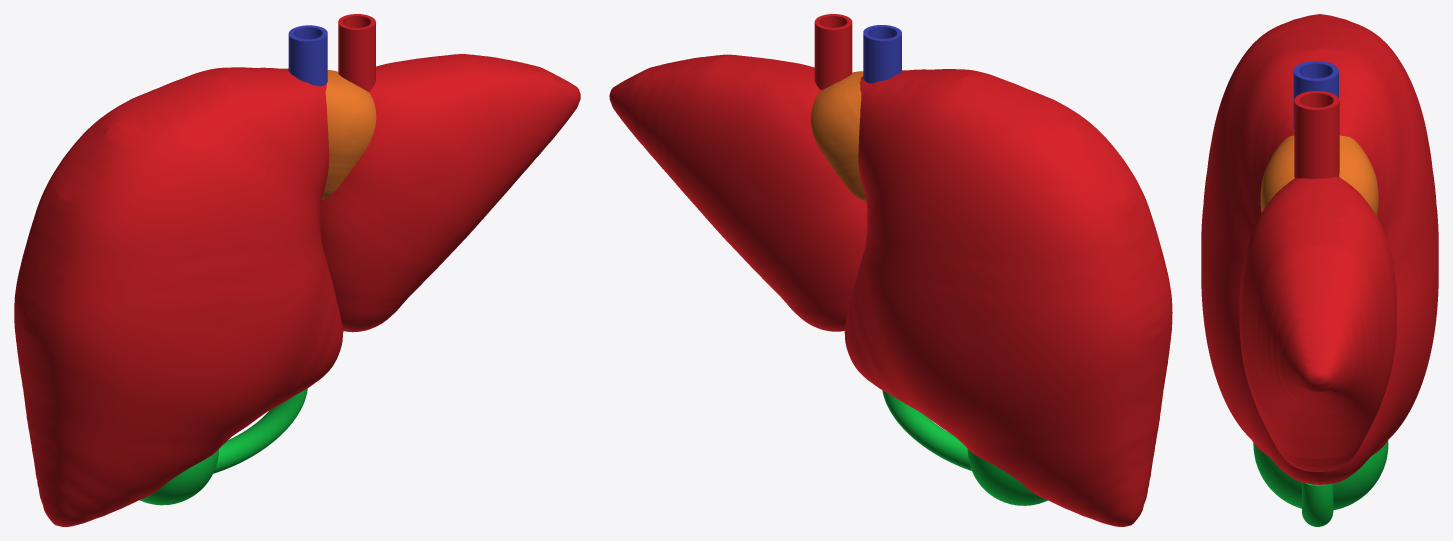
Rendered from liver_human_anatomy.glb.
3 views of the same model, side by side, from view 1: azimuth 30°, elevation 25°; view 2: azimuth 150°, elevation 25°; view 3: azimuth 270°, elevation 25° (orthographic). The views are drawn at different scales.
Parts seen in each view (by area): view 1: node_id15_8, node_id24_13, node_id9_5, node_id21_11, node_id12_6, node_id18_9, node_id27_15; view 2: node_id15_8, node_id24_13, node_id9_5, node_id21_11, node_id12_6, node_id18_9, node_id27_15; view 3: node_id15_8, node_id24_13, node_id21_11, node_id9_5, node_id27_15, node_id18_9, node_id12_6.
Boxes of the visible parts, <box> form: node_id15_8: <box>14,67,343,526</box>; node_id24_13: <box>320,54,580,332</box>; node_id9_5: <box>321,70,376,199</box>; node_id21_11: <box>338,14,375,91</box>; node_id12_6: <box>213,388,307,473</box>; node_id18_9: <box>288,25,327,86</box>; node_id27_15: <box>140,449,218,505</box>; node_id15_8: <box>844,69,1172,526</box>; node_id24_13: <box>609,54,867,331</box>; node_id9_5: <box>811,71,866,201</box>; node_id21_11: <box>814,14,852,90</box>; node_id12_6: <box>882,390,971,470</box>; node_id18_9: <box>863,25,901,83</box>; node_id27_15: <box>967,449,1047,505</box>; node_id15_8: <box>1201,14,1438,484</box>; node_id24_13: <box>1239,177,1396,471</box>; node_id21_11: <box>1294,91,1339,178</box>; node_id9_5: <box>1260,135,1378,216</box>; node_id27_15: <box>1253,440,1388,510</box>; node_id18_9: <box>1293,61,1338,128</box>; node_id12_6: <box>1302,482,1333,526</box>.
Size of the model in its own units: 0.2018 by 0.1519 by 0.063.
7 materials, 7 textured.
